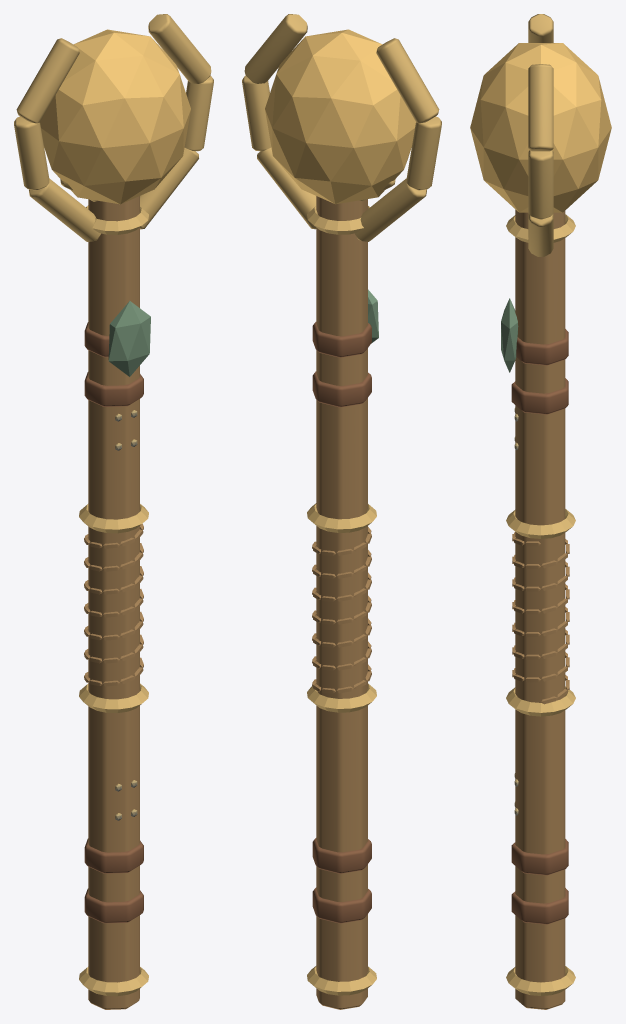
The model's file is baston_ambar_t2.glb.
3 views of the same model, side by side, from view 1: azimuth 30°, elevation 25°; view 2: azimuth 150°, elevation 25°; view 3: azimuth 270°, elevation 25° (orthographic).
Parts seen in each view (by area): view 1: baston_ambar_t2_finished; view 2: baston_ambar_t2_finished; view 3: baston_ambar_t2_finished.
Part boxes in pixels (x1=…): baston_ambar_t2_finished: x1=14, y1=14, x2=213, y2=1009; baston_ambar_t2_finished: x1=242, y1=14, x2=441, y2=1009; baston_ambar_t2_finished: x1=470, y1=14, x2=611, y2=1009.
Bounding box in the file's own units: 0.4631 × 2.19 × 0.2924.
6 materials, 1 textured.
